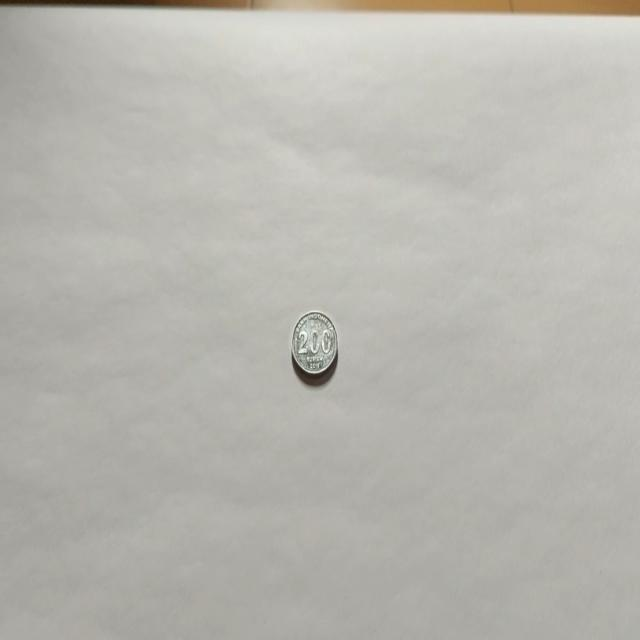dua ratus rupiah: (290, 308, 338, 378)
